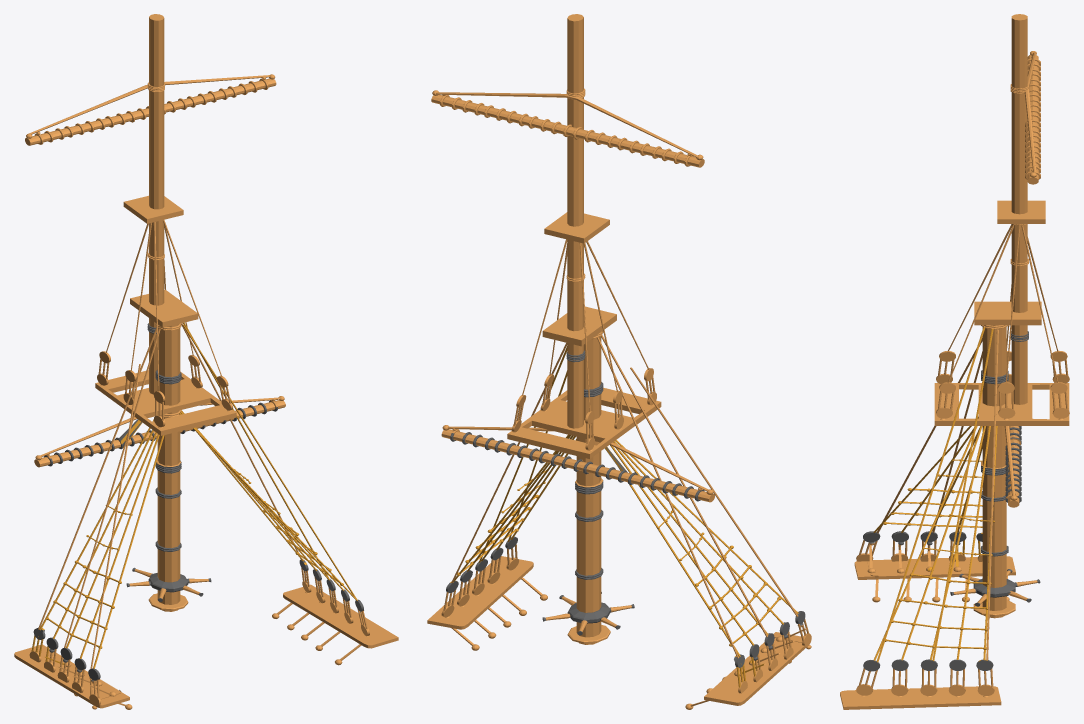
Rendered from NewMast.fbx.
3 views of the same model, side by side, from view 1: azimuth 30°, elevation 25°; view 2: azimuth 150°, elevation 25°; view 3: azimuth 270°, elevation 25° (orthographic). The views are drawn at different scales.
Visible parts, largest first — view 1: Mast; view 2: Mast; view 3: Mast.
Part boxes in pixels (bbox=[...]): Mast: bbox=[14, 14, 398, 709]; Mast: bbox=[427, 14, 811, 709]; Mast: bbox=[840, 14, 1069, 709].
Size of the model in its own units: 612 by 1188 by 390.
